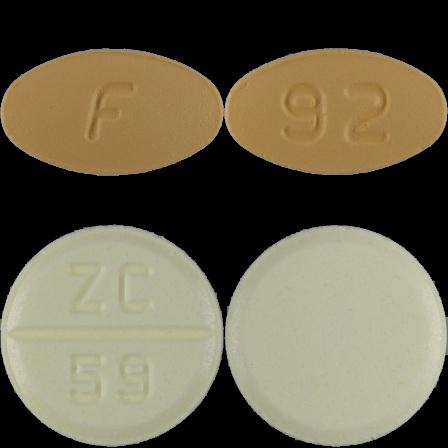68084-221: (0, 0, 224, 224)
